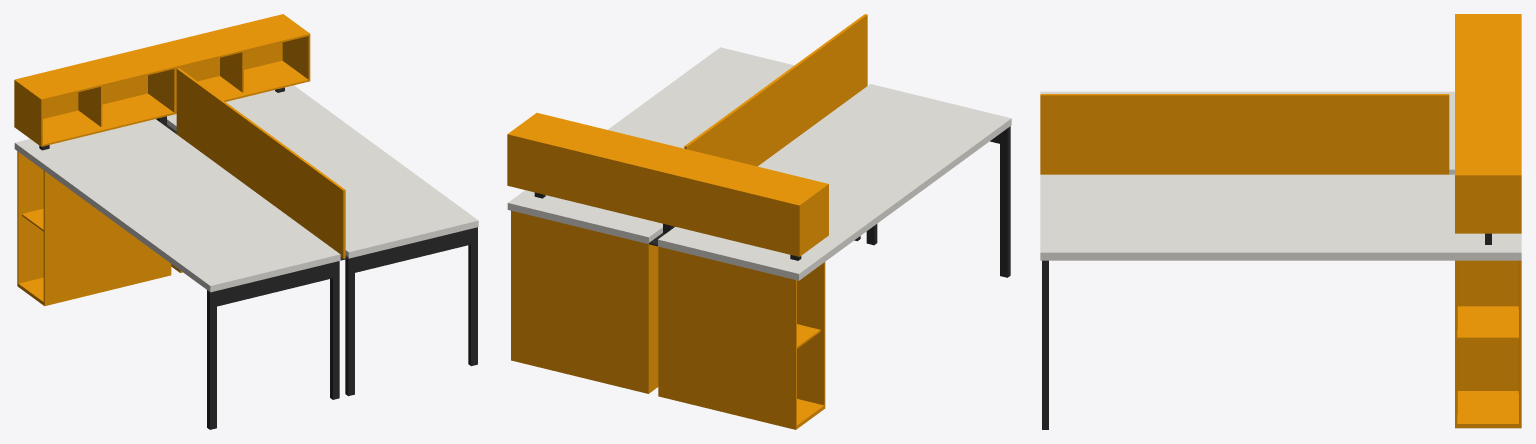
File: ComputerDesk.fbx
The picture shows the model from 3 angles, left to right: view 1: azimuth 30°, elevation 25°; view 2: azimuth 150°, elevation 25°; view 3: azimuth 270°, elevation 25°; orthographic projection. The views are drawn at different scales.
Parts seen in each view (by area): view 1: Desk; view 2: Desk; view 3: Desk.
Part boxes in pixels (left/top/right/bottom): Desk: left=14, top=14, right=478, bottom=429; Desk: left=507, top=14, right=1011, bottom=429; Desk: left=1040, top=14, right=1521, bottom=429.
Size of the model in its own units: 141 by 104 by 178.
1 material, 1 textured.
